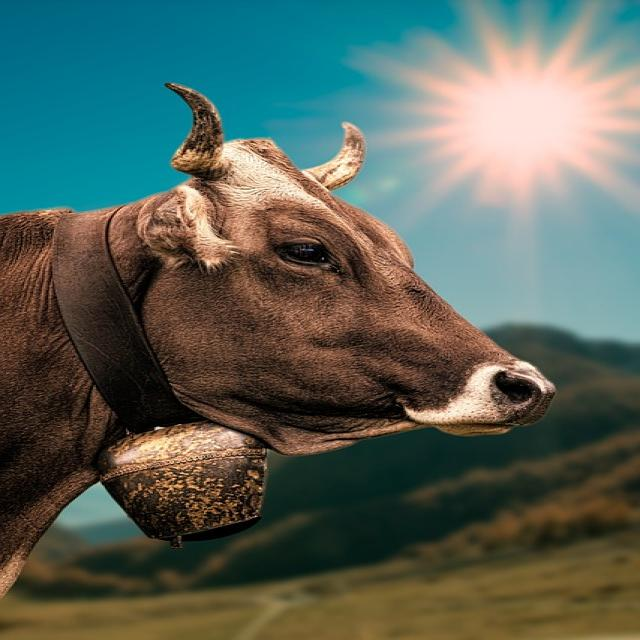Herbivorous: (0, 83, 556, 602)
